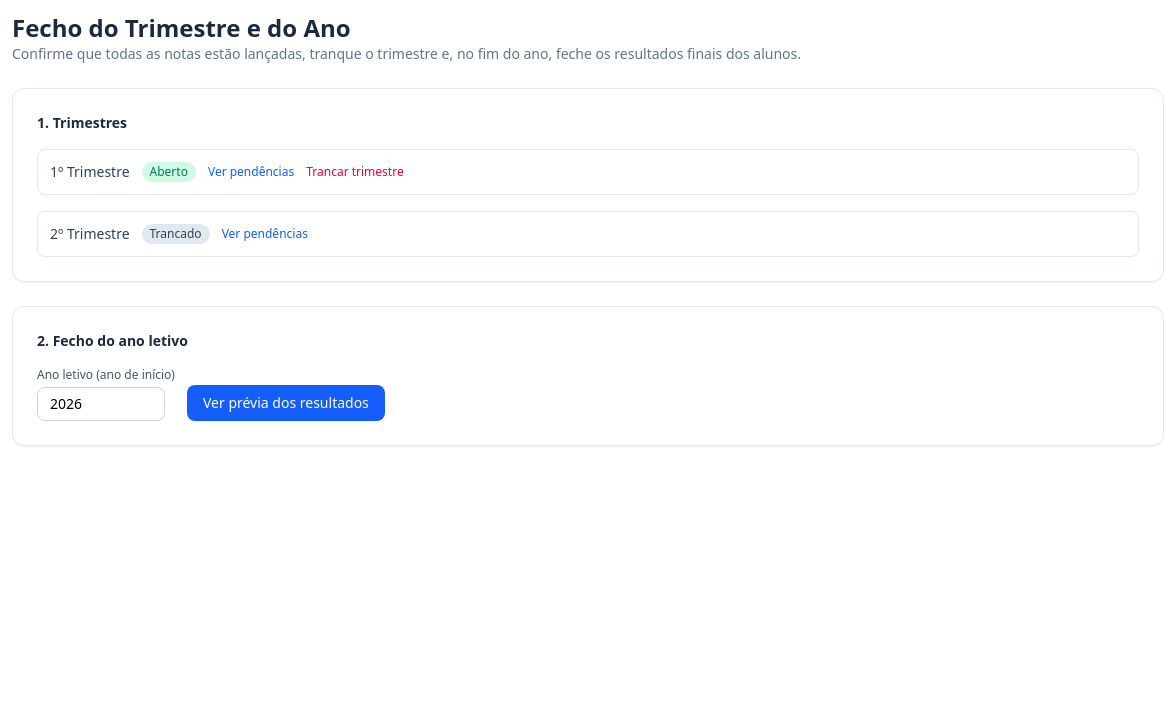
Test: FechoAnoComponent › não deixa fechar o ano enquanto houver períodos abertos
This screenshot has width=1164, height=718.
Click the button "Ver prévia dos resultados": click(286, 403) [187,385,385,421]
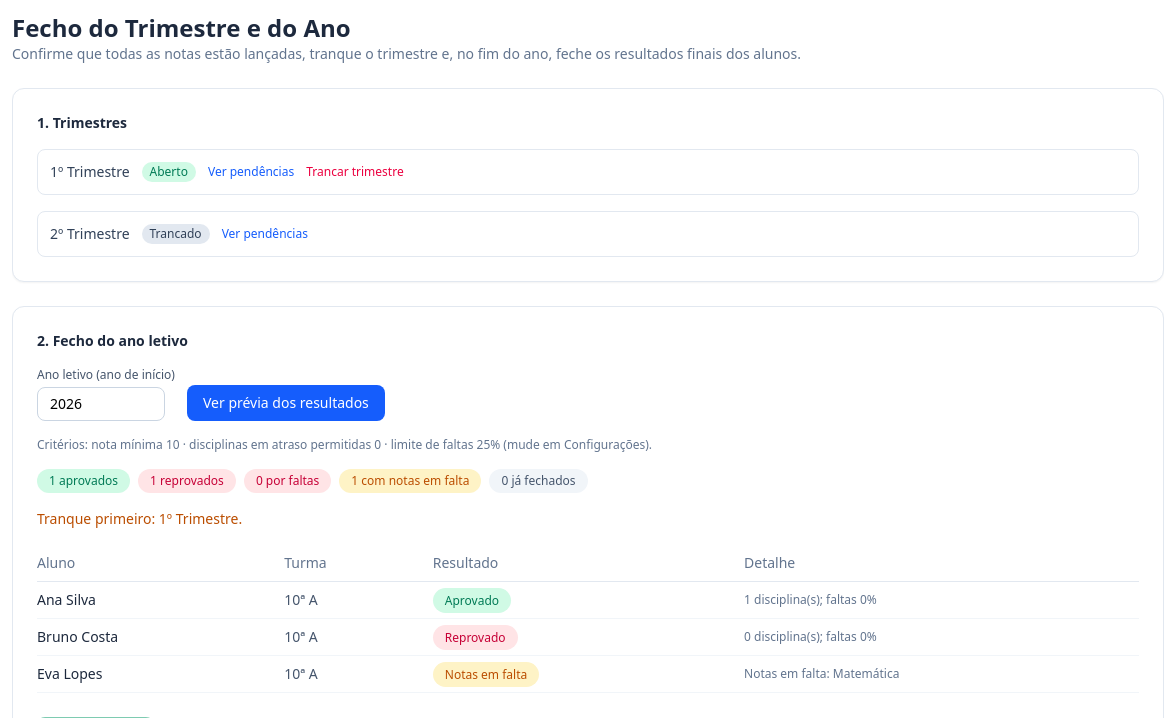
Expected: the text "Tranque primeiro: 1º Trimestre" is shown, [37,509,242,528]
